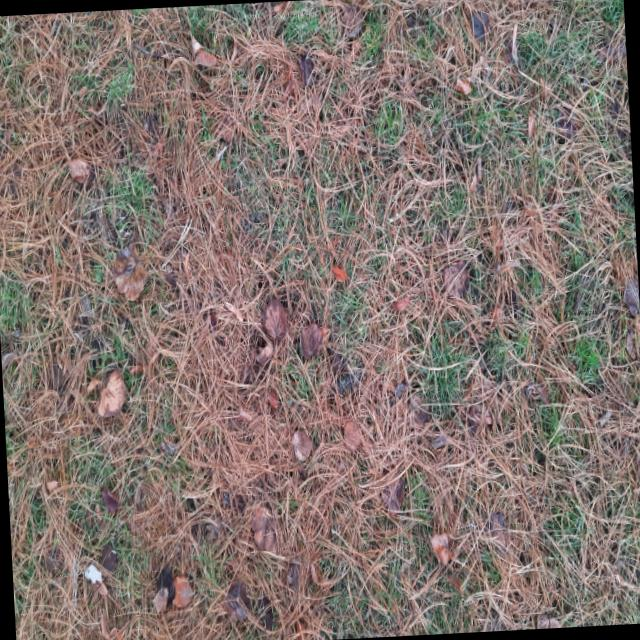grass: (96, 163, 105, 168)
